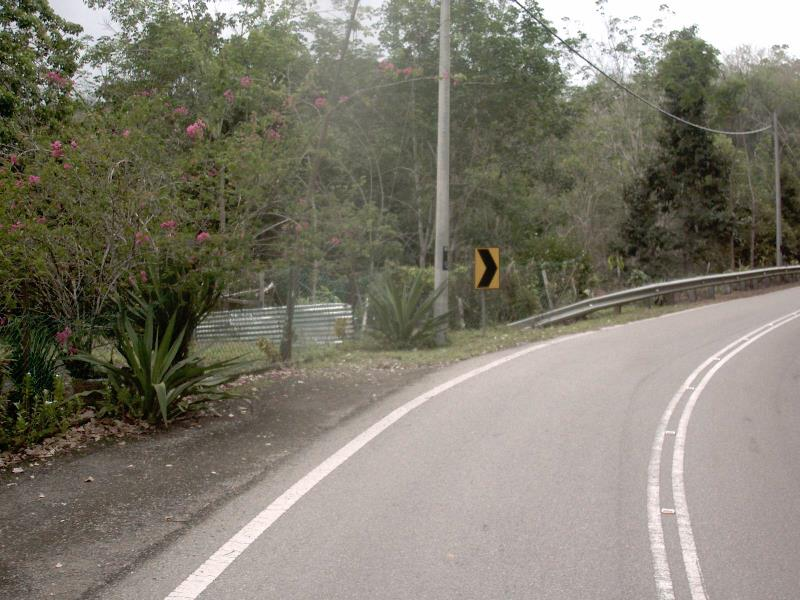traffic_sign: (465, 237, 509, 298)
